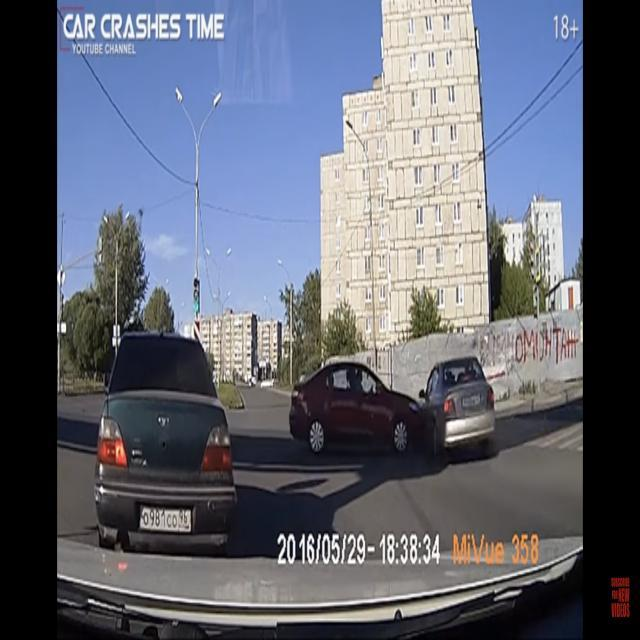accident: (290, 341, 497, 484)
